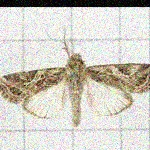Spodoptera litura: (0, 25, 149, 128)
